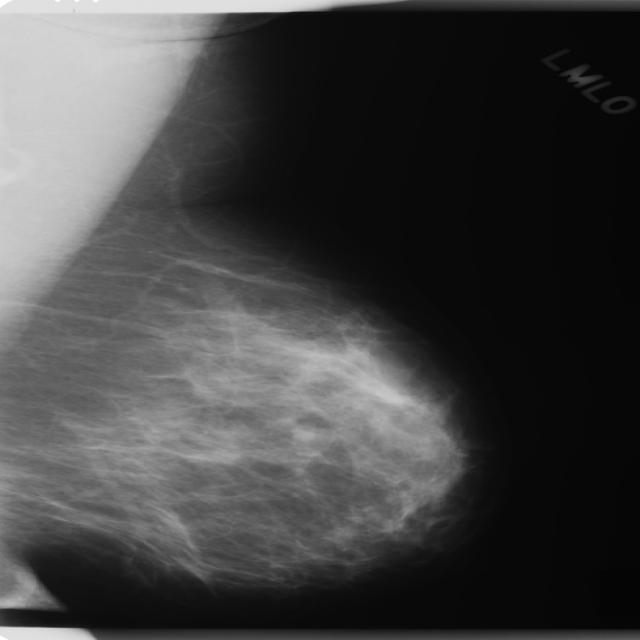tumour: (285, 422, 322, 444)
